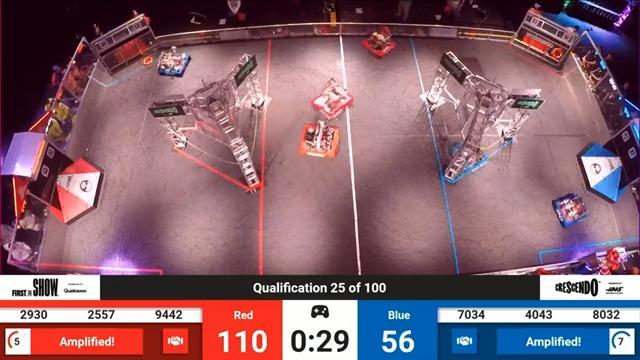robot: (310, 77, 354, 119), (449, 139, 491, 176), (550, 192, 592, 228), (362, 24, 398, 63), (299, 122, 336, 159), (156, 42, 191, 76)
